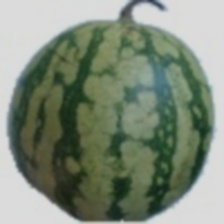watermelon: (22, 16, 182, 203)
